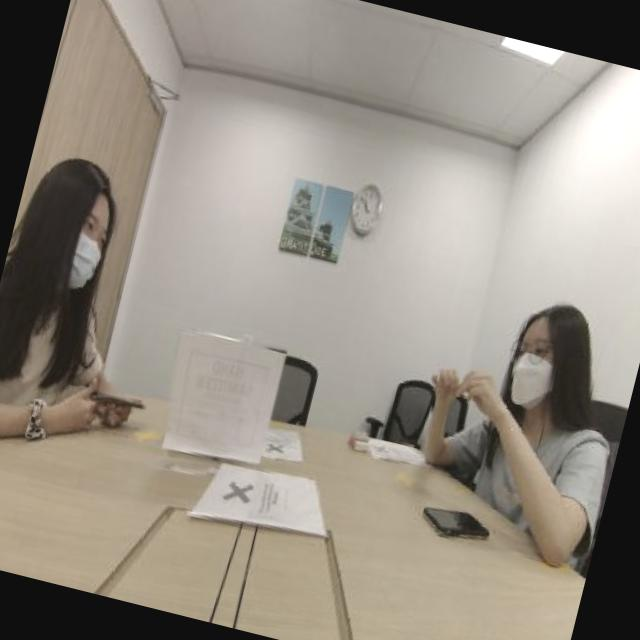Person: (448, 240, 640, 509), (0, 102, 160, 411)
